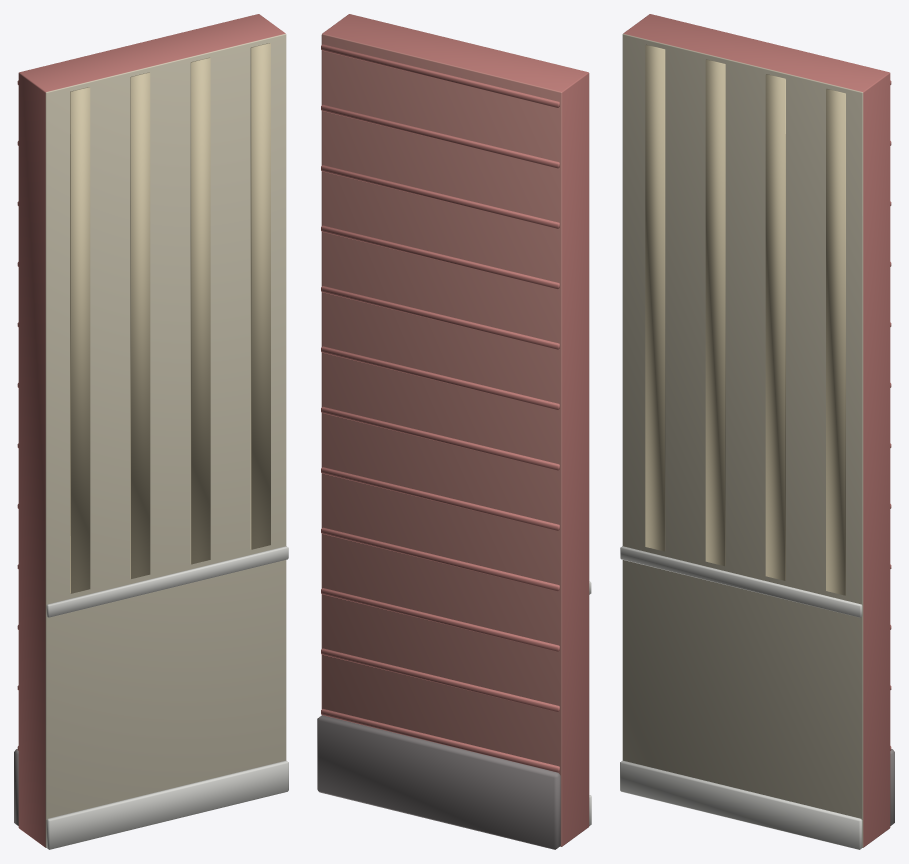
File: wall_half_pink.glb
The picture shows the model from 3 angles, left to right: view 1: azimuth 30°, elevation 25°; view 2: azimuth 150°, elevation 25°; view 3: azimuth 330°, elevation 25°; orthographic projection.
Visible parts, largest first — view 1: wall_half_pink; view 2: wall_half_pink; view 3: wall_half_pink.
Part boxes in pixels (x1,y1,x2,y2): wall_half_pink: (14,14,288,849); wall_half_pink: (317,14,591,849); wall_half_pink: (620,14,894,849).
Bounding box in the file's own units: 1 × 3 × 0.26.
